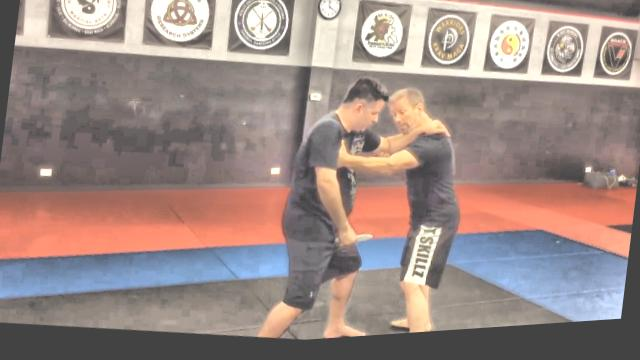knife: (334, 231, 376, 256)
